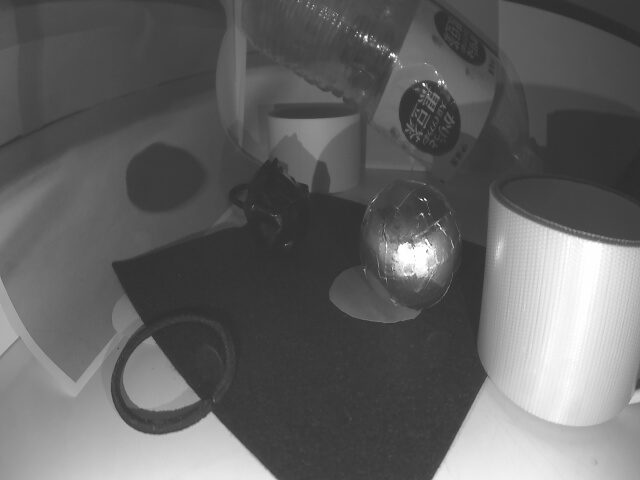Dead: (244, 163, 315, 253)
Live: (357, 177, 462, 313)
